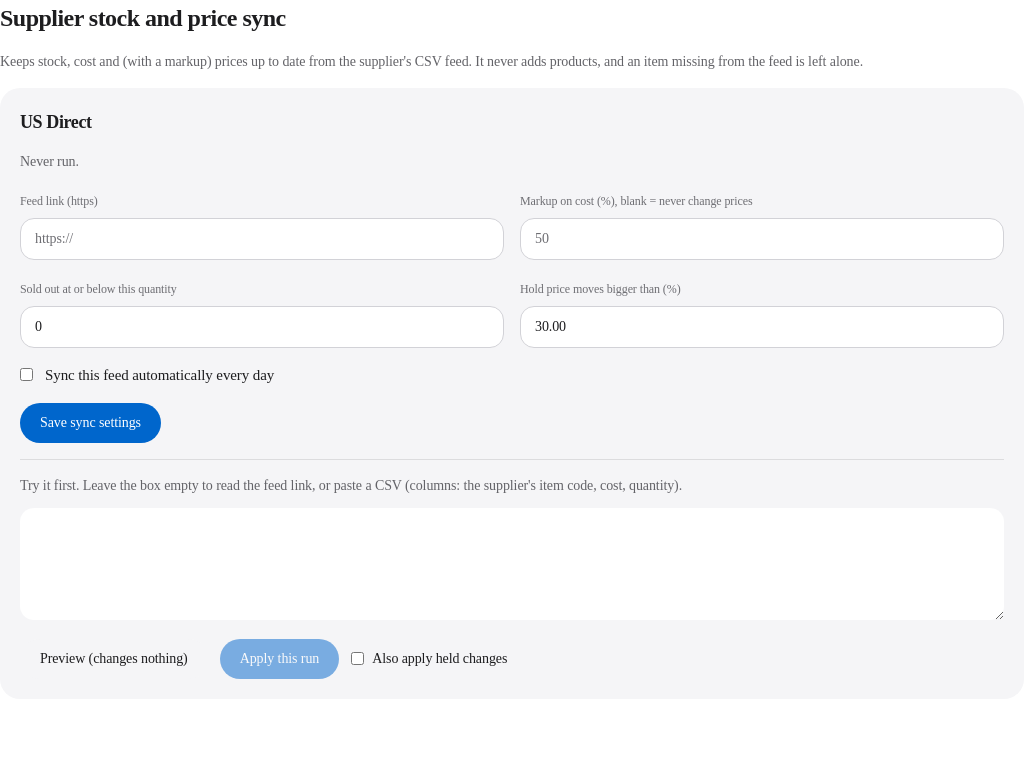
Scenario: Supplier stock and price sync › shows held changes and the server's refusals
Click the button "Preview (changes nothing)" at [114, 658], box 20,638 -> 208,678
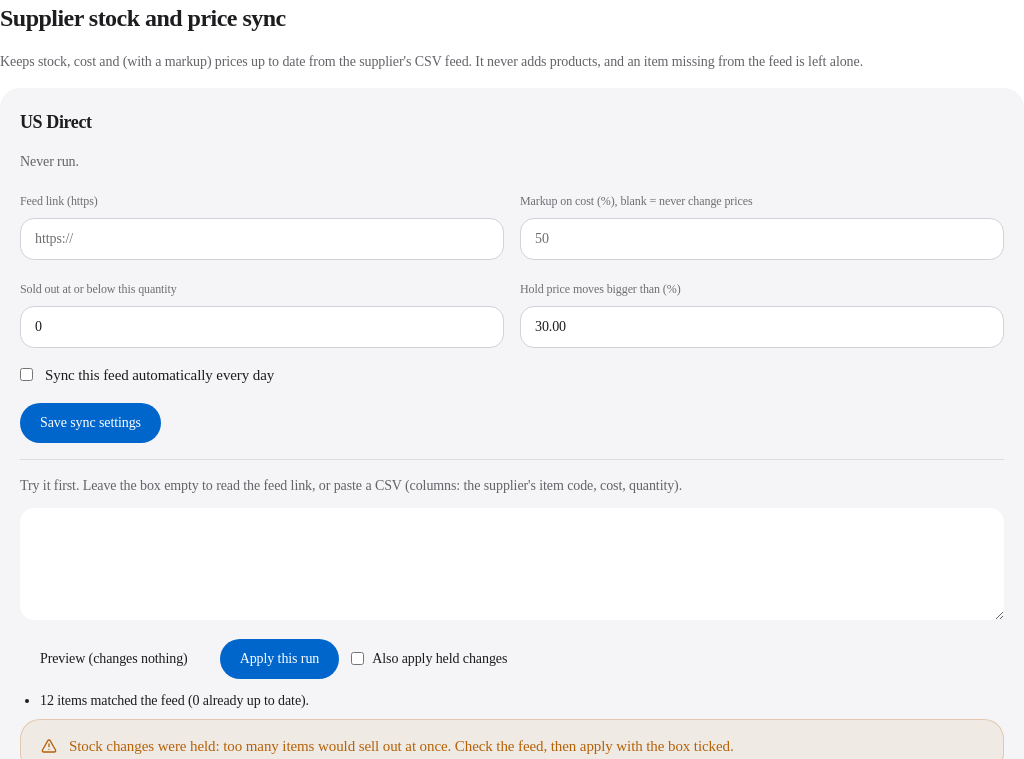
Result: the element named "Preview result" shows "Stock changes were held" at 69,738 -> 734,754
Click the button "Preview (changes nothing)" at [114, 658], box 20,638 -> 208,678
(page scrolled)
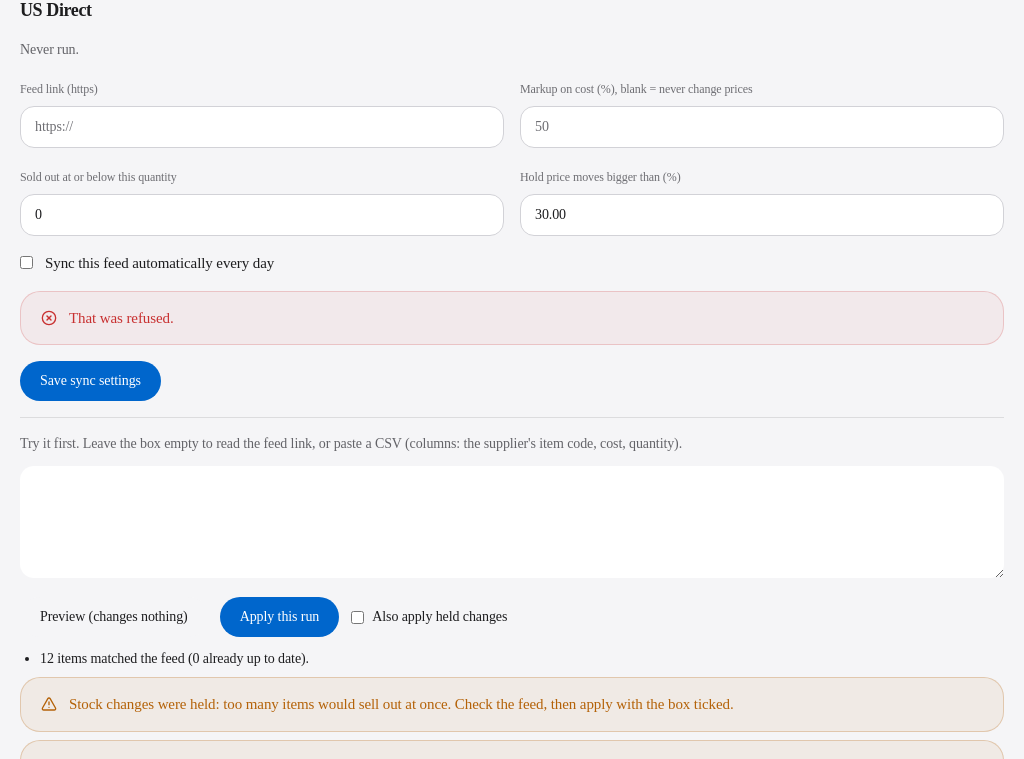
Result: the message "That was refused." is shown at 20,290 -> 1004,345
